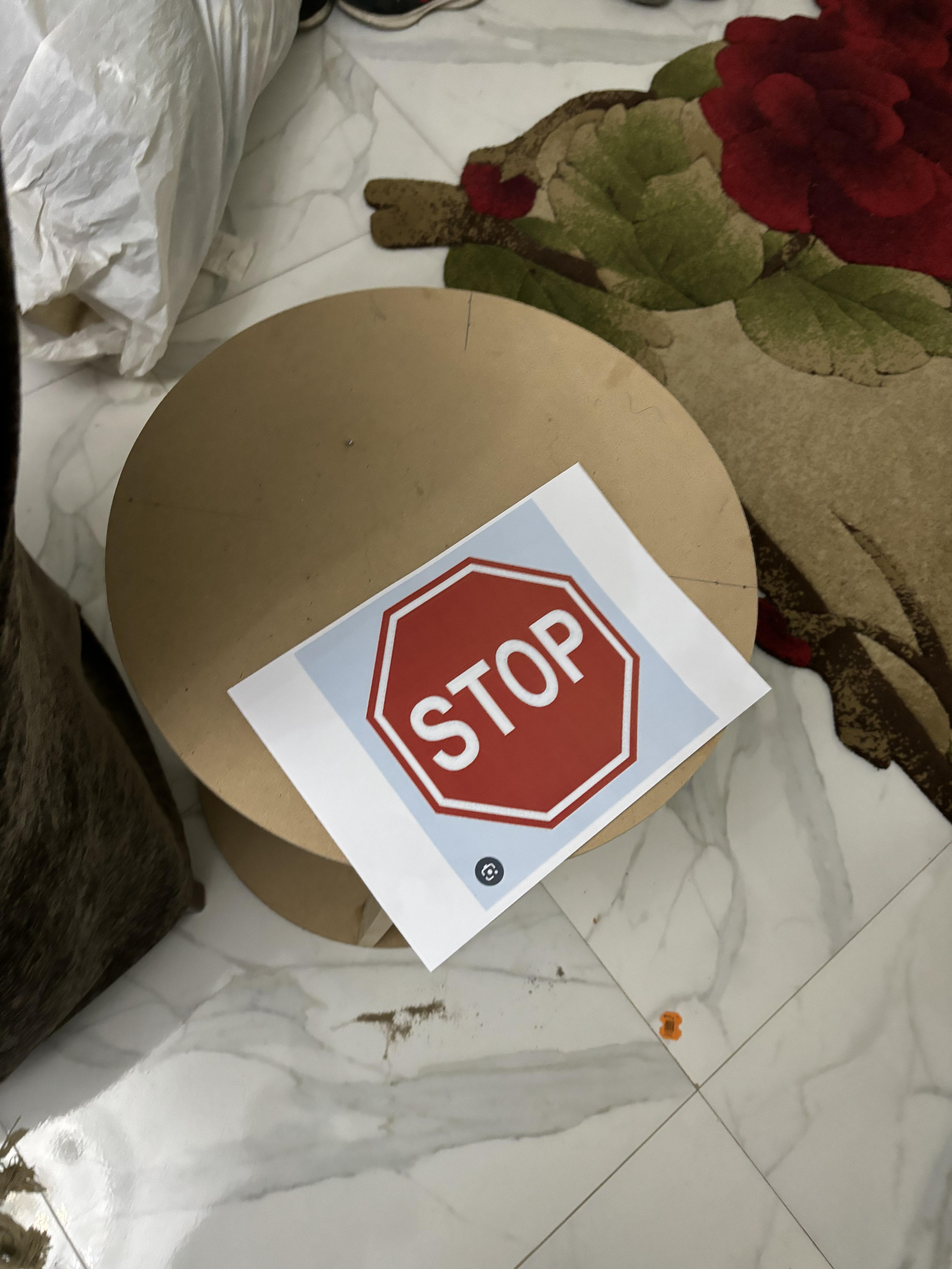Stop: (356, 563, 652, 838)
